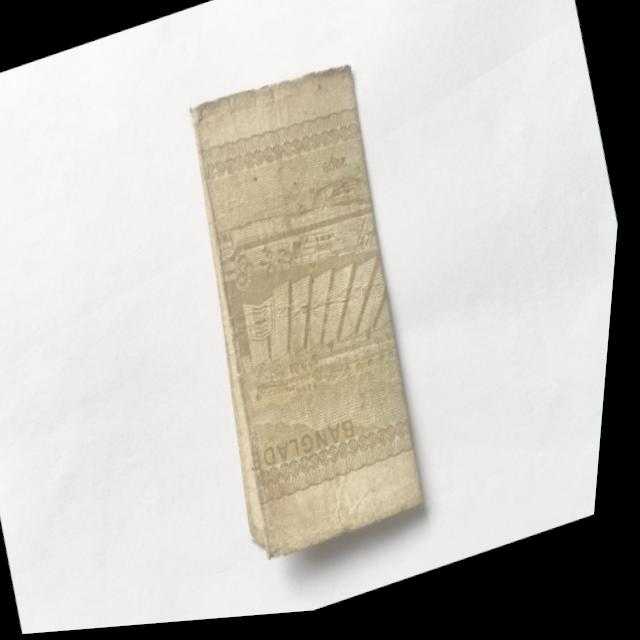Taka: (148, 37, 479, 581)
